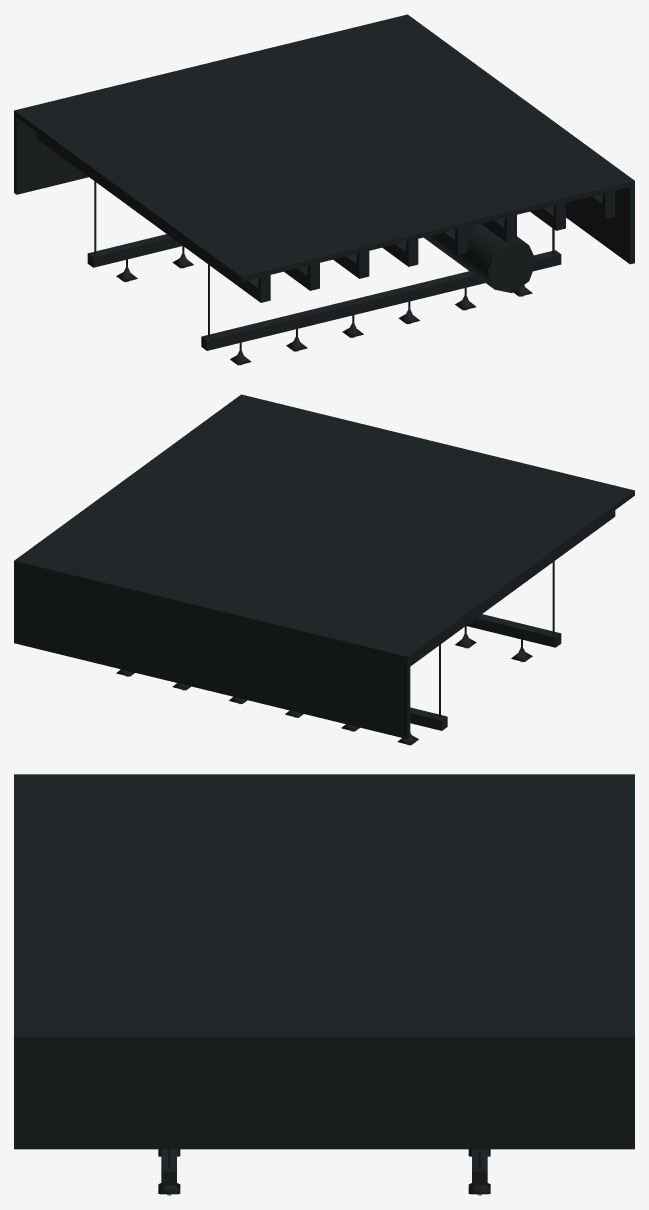
The model's file is Roof_Corner_Lights.glb.
The picture shows the model from 3 angles, top to bottom: view 1: azimuth 30°, elevation 25°; view 2: azimuth 150°, elevation 25°; view 3: azimuth 270°, elevation 25°; orthographic projection. The views are drawn at different scales.
Parts seen in each view (by area): view 1: Roof_Corner_Lights; view 2: Roof_Corner_Lights; view 3: Roof_Corner_Lights.
Boxes of the visible parts, <box> form: Roof_Corner_Lights: <box>14,14,634,365</box>; Roof_Corner_Lights: <box>14,394,634,745</box>; Roof_Corner_Lights: <box>14,774,634,1195</box>.
Bounding box in the file's own units: 8 × 2.79 × 8.
Materials: 1 (1 with a texture image).
